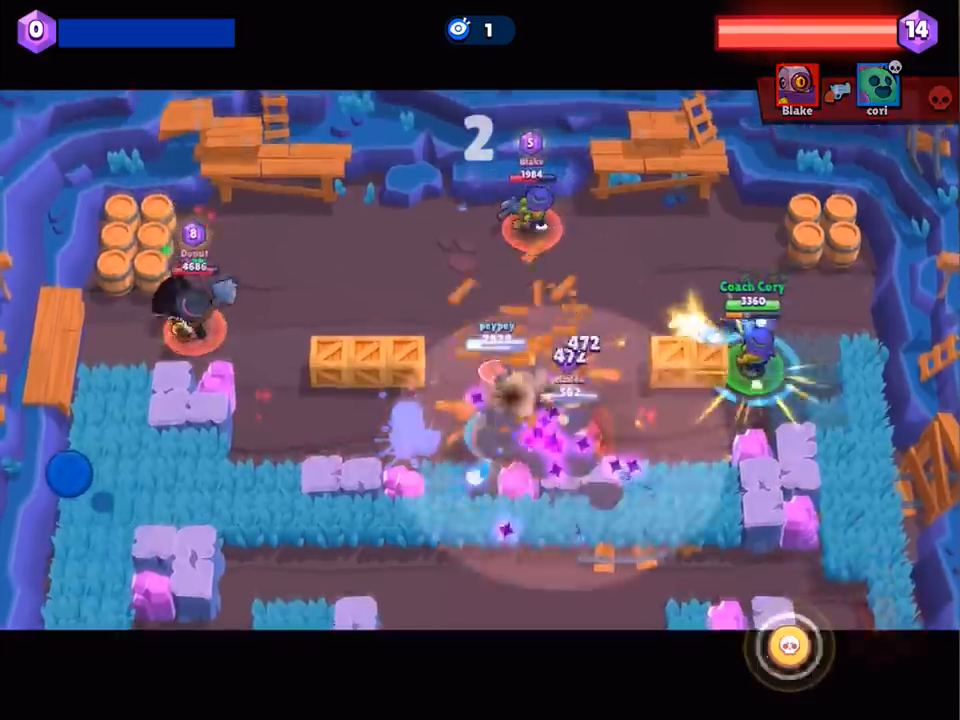move_stick: (47, 446, 101, 499)
red: (155, 259, 234, 367), (505, 160, 560, 268)
